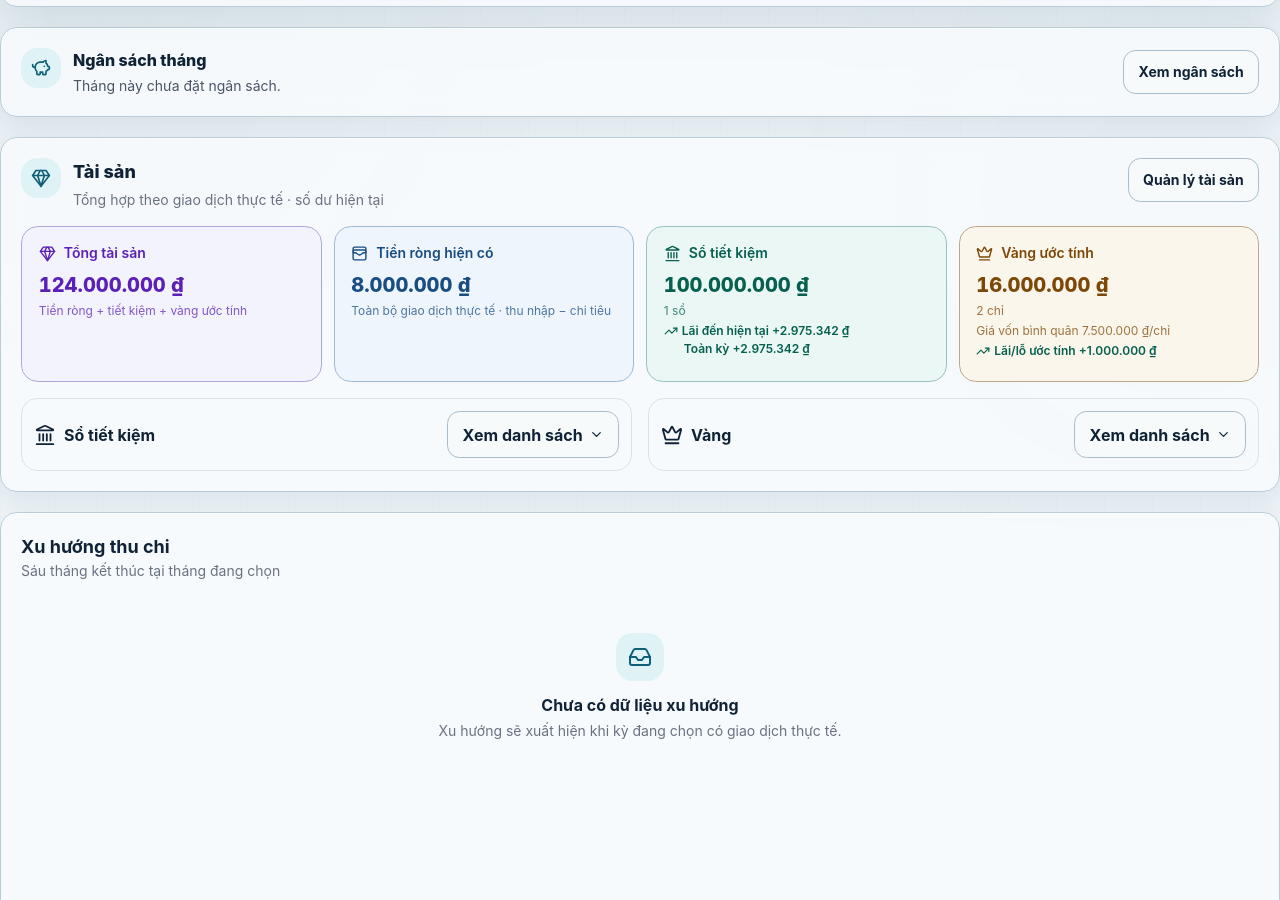
Test: Dashboard › hiển thị tổng tài sản và lãi/lỗ ước tính cho sổ tiết kiệm và vàng
(page scrolled)
Check: the text "Tổng tài sản" is shown, box top-left (39, 244), bottom-right (146, 262)
Check: the text "124.000.000 ₫" is shown, box top-left (39, 273), bottom-right (184, 297)
What coordinates should you click on to do the following:
click the button with aria-label "Mở danh sách sổ tiết kiệm (1)"
I would click on:
 (533, 435)
Its box is top-left (447, 411), bottom-right (619, 458).
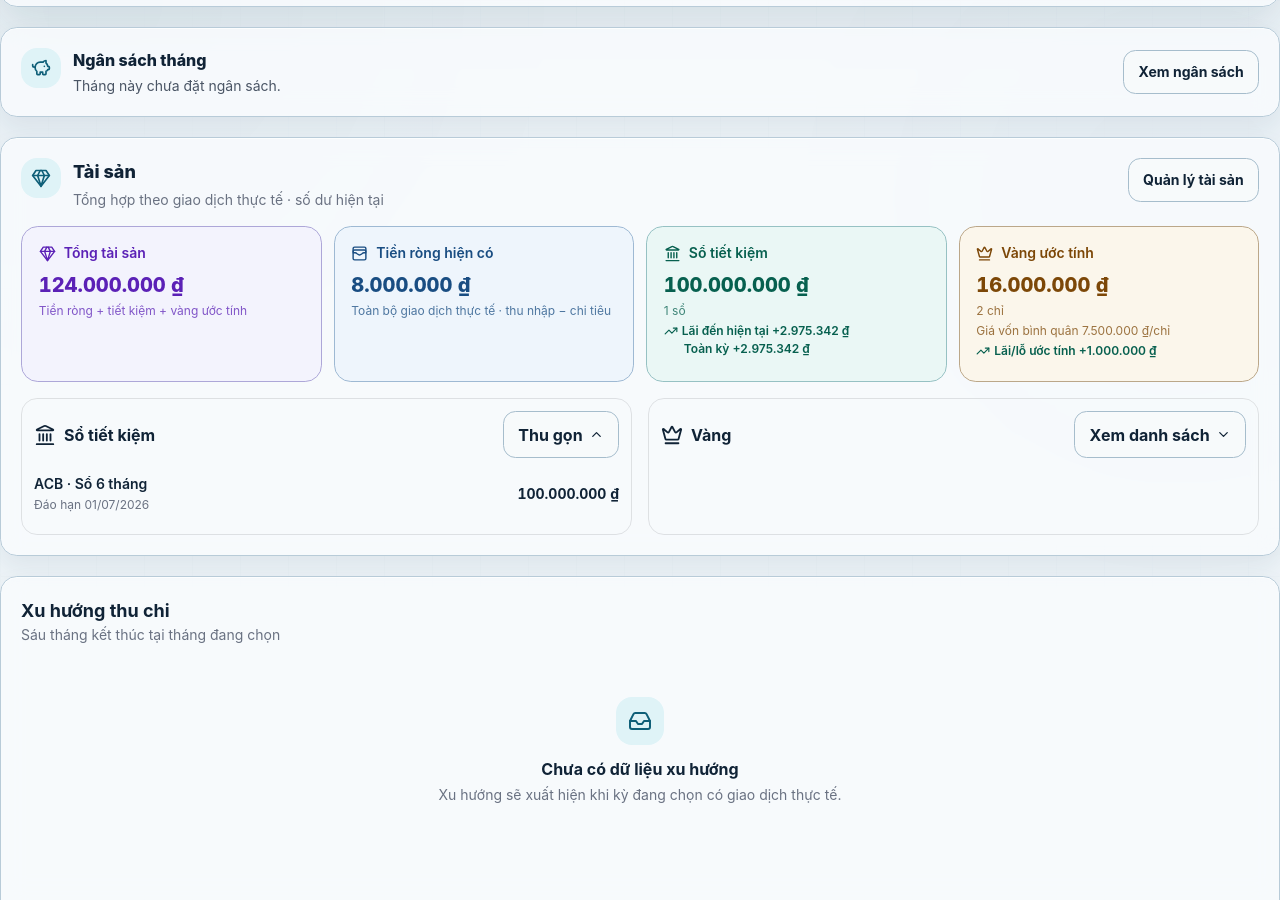
Check: the button with aria-label "Thu gọn danh sách sổ tiết kiệm" is expanded, box top-left (503, 411), bottom-right (619, 458)
What coordinates should you click on to do the following:
click the button with aria-label "Mở danh sách vàng (1)"
I would click on:
 (1160, 435)
Its box is top-left (1074, 411), bottom-right (1246, 458).
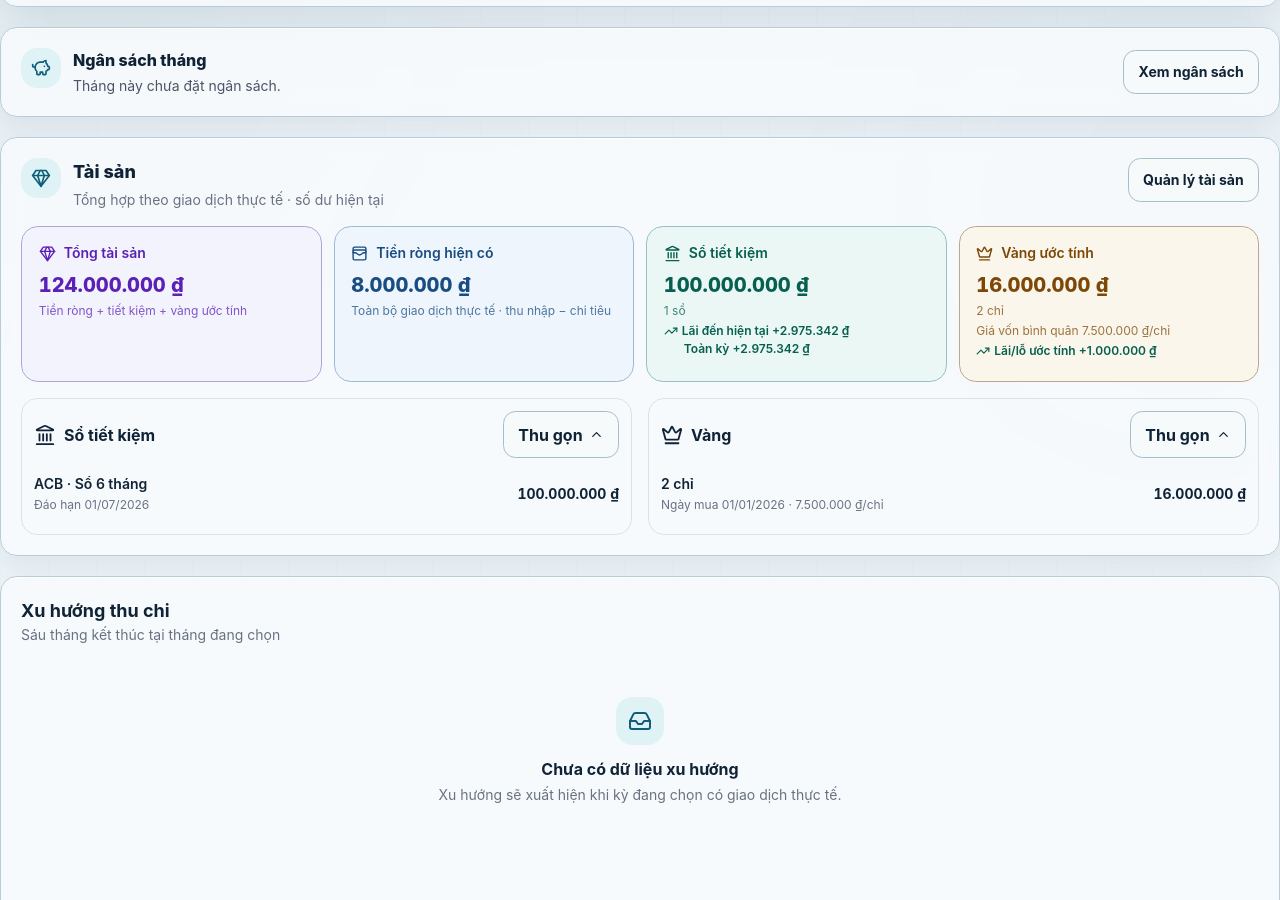
Check: the button with aria-label "Thu gọn danh sách vàng" is expanded, box top-left (1130, 411), bottom-right (1246, 458)
